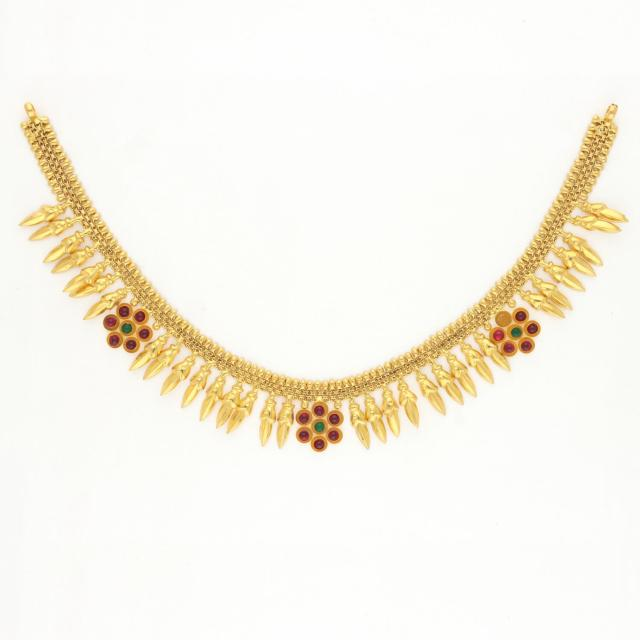missing gem: (498, 314, 510, 325)
